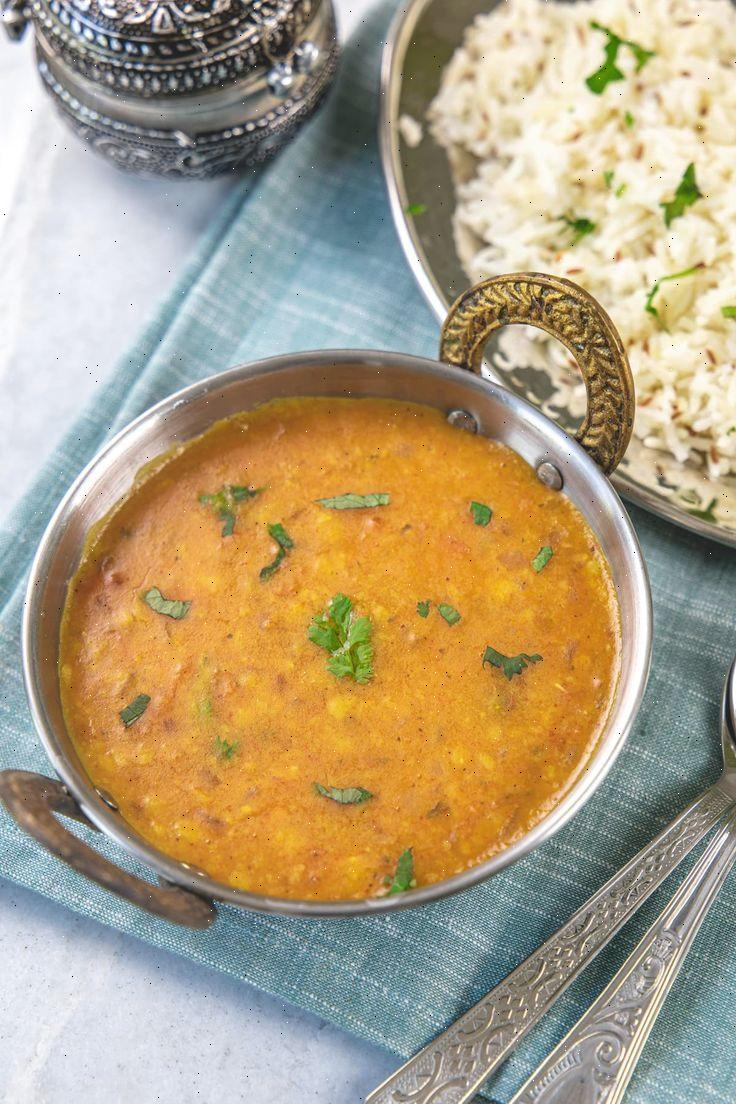daal: (45, 417, 625, 920)
rice: (428, 0, 736, 514)
